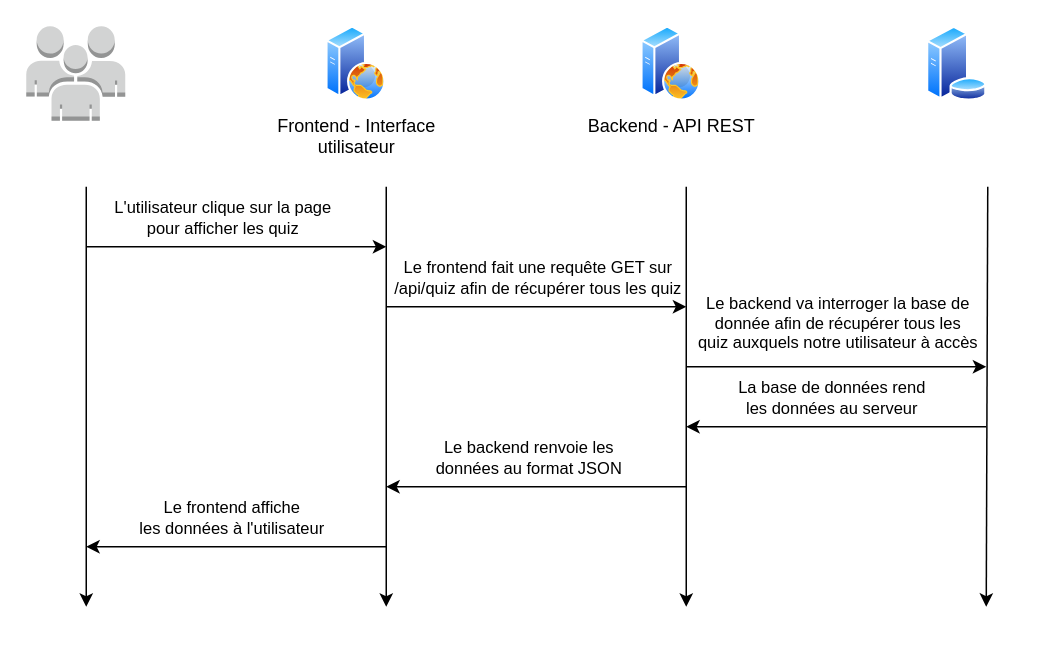
Some shapes in this 1053 by 645 pixel diagram are drawn without their labels. Here are the shapes that lost their labels. From the top down, the centre of each, then its label:
the point at 75,73: Utilisateurs
the point at 956,63: Base de données
